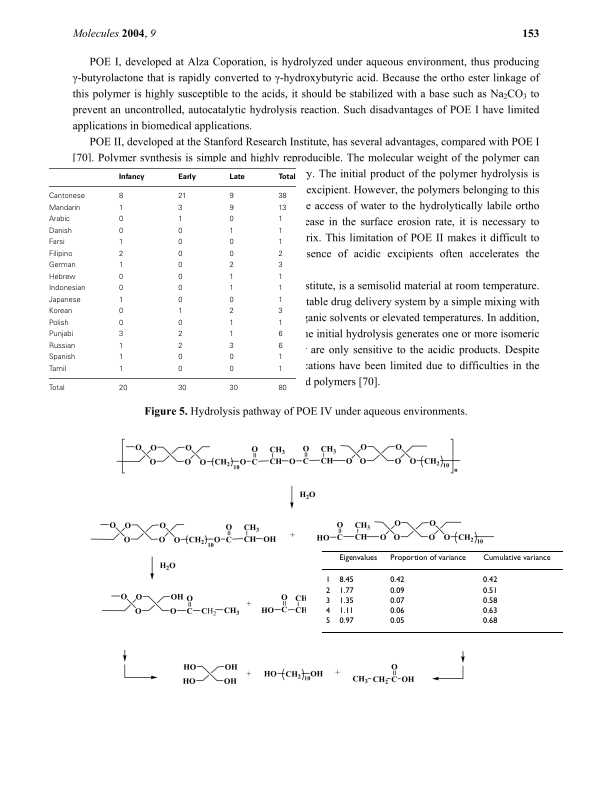borderless: (47, 167, 297, 393), (321, 549, 563, 633)
cell: (389, 553, 466, 563), (482, 553, 551, 563), (338, 553, 378, 563), (48, 284, 86, 293), (48, 192, 85, 201), (48, 204, 81, 213), (48, 296, 81, 305), (117, 173, 145, 182), (48, 261, 76, 270), (48, 273, 76, 282), (48, 342, 76, 351), (48, 353, 76, 362), (48, 330, 74, 339), (48, 250, 73, 259), (48, 307, 73, 316), (48, 227, 72, 236), (48, 215, 70, 224), (48, 319, 69, 328), (177, 173, 196, 182), (277, 173, 296, 182), (48, 365, 67, 374), (338, 586, 354, 596), (389, 586, 405, 596), (482, 586, 498, 596), (338, 596, 354, 606), (389, 596, 405, 606), (482, 596, 498, 606), (338, 606, 354, 616), (389, 606, 405, 616), (482, 606, 498, 616), (228, 173, 245, 182), (48, 238, 65, 247), (48, 384, 65, 393), (338, 576, 354, 585), (389, 576, 405, 585), (482, 576, 498, 585), (338, 617, 354, 626), (389, 617, 405, 626), (482, 617, 498, 626), (117, 384, 128, 393), (177, 192, 187, 201), (277, 192, 287, 201), (277, 204, 287, 213), (177, 384, 187, 393), (228, 384, 238, 393), (277, 384, 287, 393), (324, 586, 331, 596), (324, 596, 331, 606), (324, 606, 331, 616), (117, 192, 124, 201), (117, 204, 124, 213), (117, 215, 124, 224), (117, 227, 124, 236), (117, 238, 124, 247), (117, 250, 124, 259), (117, 261, 124, 270), (117, 273, 124, 282), (117, 284, 124, 293), (117, 296, 124, 305), (117, 307, 124, 316), (117, 319, 124, 328), (117, 330, 124, 339), (117, 342, 124, 351), (117, 353, 124, 362), (117, 365, 124, 374), (324, 576, 331, 585), (324, 617, 331, 626), (228, 192, 234, 201), (177, 204, 183, 213), (228, 204, 234, 213), (177, 215, 183, 224), (228, 215, 234, 224), (277, 215, 283, 224), (177, 227, 183, 236), (228, 227, 234, 236), (277, 227, 283, 236), (177, 238, 183, 247), (228, 238, 234, 247), (277, 238, 283, 247), (177, 250, 183, 259), (228, 250, 234, 259), (277, 250, 283, 259), (177, 261, 183, 270), (228, 261, 234, 270), (277, 261, 283, 270), (177, 273, 183, 282), (228, 273, 234, 282), (277, 273, 283, 282), (177, 284, 183, 293), (228, 284, 234, 293), (277, 284, 283, 293), (177, 296, 183, 305), (228, 296, 234, 305), (277, 296, 283, 305), (177, 307, 183, 316), (228, 307, 234, 316), (277, 307, 283, 316), (177, 319, 183, 328), (228, 319, 234, 328), (277, 319, 283, 328), (177, 330, 183, 339), (228, 330, 234, 339), (277, 330, 283, 339), (177, 342, 183, 351), (228, 342, 234, 351), (277, 342, 283, 351), (177, 353, 183, 362), (228, 353, 234, 362), (277, 353, 283, 362), (177, 365, 183, 374), (228, 365, 234, 374), (277, 365, 283, 374)
